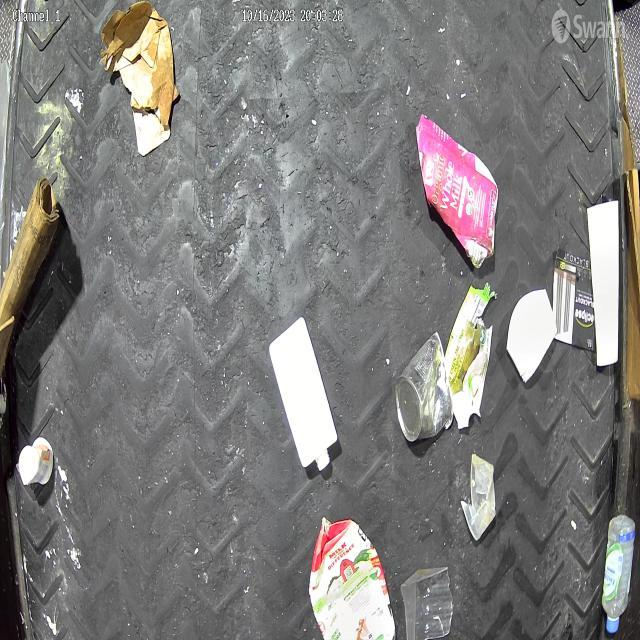can: (396, 330, 454, 441)
milk_jug: (268, 316, 338, 474)
non_white_jug: (310, 510, 398, 640)
plastic_bottle: (600, 513, 636, 635)
